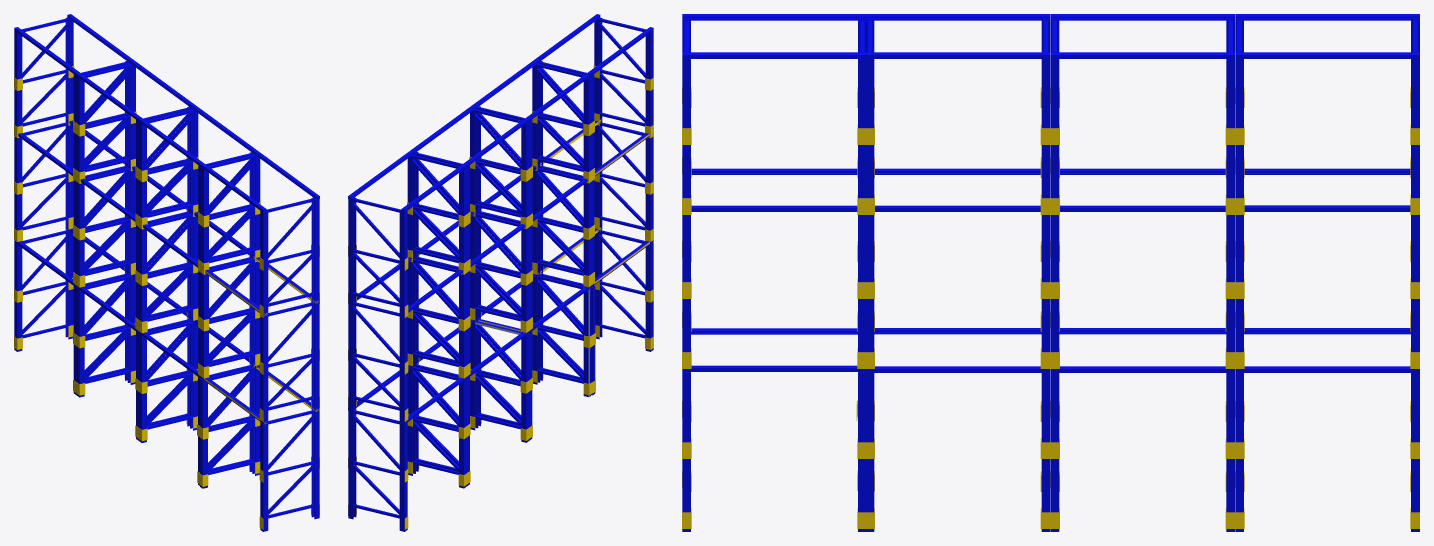
The model's file is Metal_iskele.fbx.
3 views of the same model, side by side, from view 1: azimuth 30°, elevation 25°; view 2: azimuth 150°, elevation 25°; view 3: azimuth 270°, elevation 25° (orthographic). The views are drawn at different scales.
Parts seen in each view (by area): view 1: İskele_2; view 2: İskele_2; view 3: İskele_2.
Part boxes in pixels (x1,y1,x2,y2): İskele_2: (14,14,319,531); İskele_2: (348,14,653,531); İskele_2: (682,14,1419,531).
Bounding box in the file's own units: 110 × 580 × 812.
